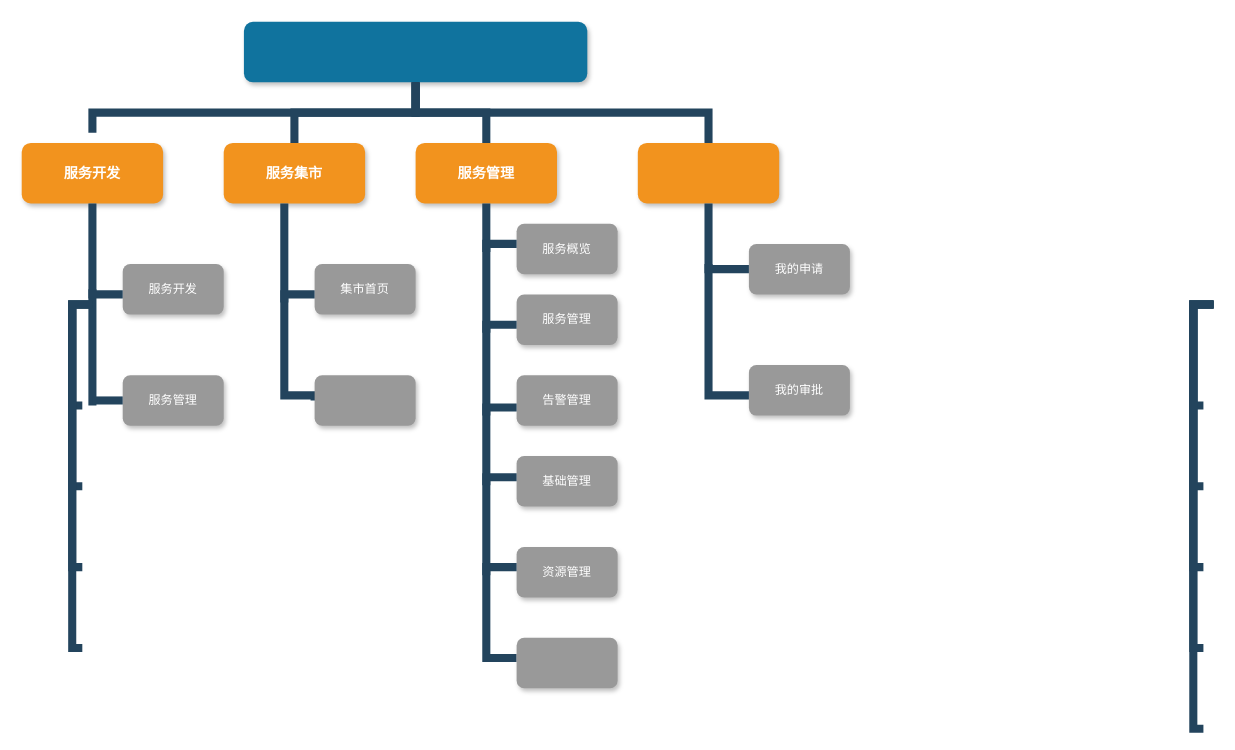
The diagram is 1235 pixels wide and 750 high, and some of its shapes have lost their labels. Each missing label, with the centre of its shape:
数据服务: (x=416, y=53)
日志管理: (x=567, y=664)
服务详情: (x=365, y=401)
申请/审批: (x=709, y=174)
